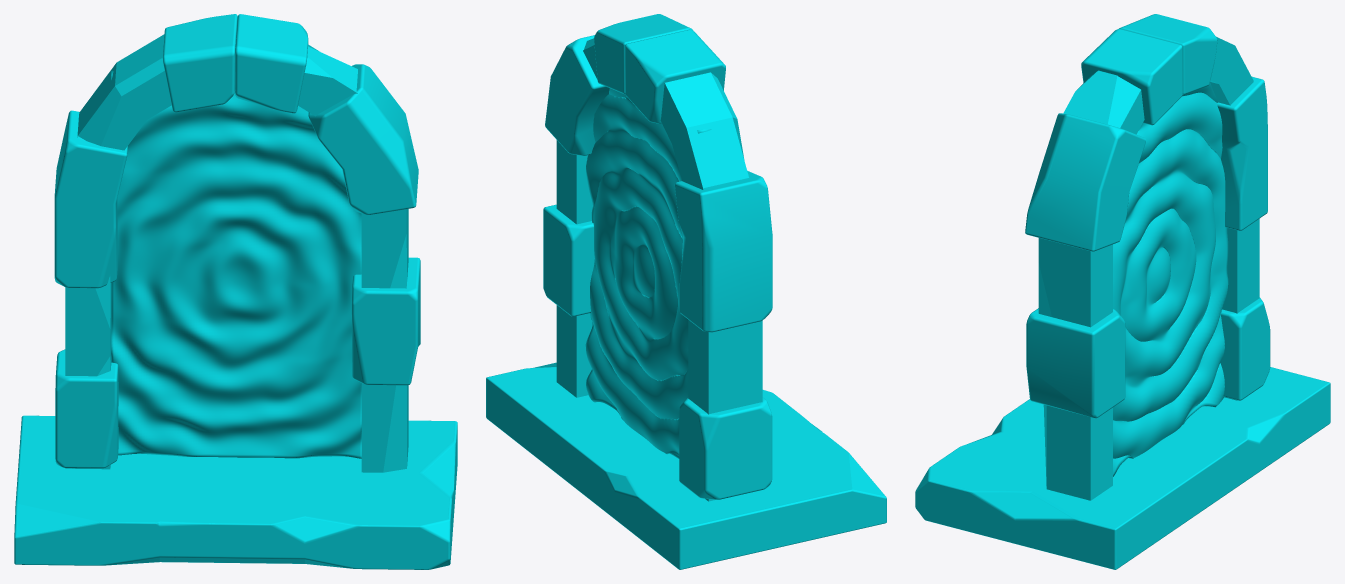
File: Portal_yeni_2.fbx
The picture shows the model from 3 angles, left to right: view 1: azimuth 30°, elevation 25°; view 2: azimuth 150°, elevation 25°; view 3: azimuth 270°, elevation 25°; orthographic projection. The views are drawn at different scales.
Visible parts, largest first — view 1: Plane; view 2: Plane; view 3: Plane.
Part boxes in pixels (x1,y1,x2,y2): Plane: [14, 14, 457, 569]; Plane: [486, 14, 886, 569]; Plane: [915, 14, 1330, 569].
Size of the model in its own units: 399 by 413 by 351.
